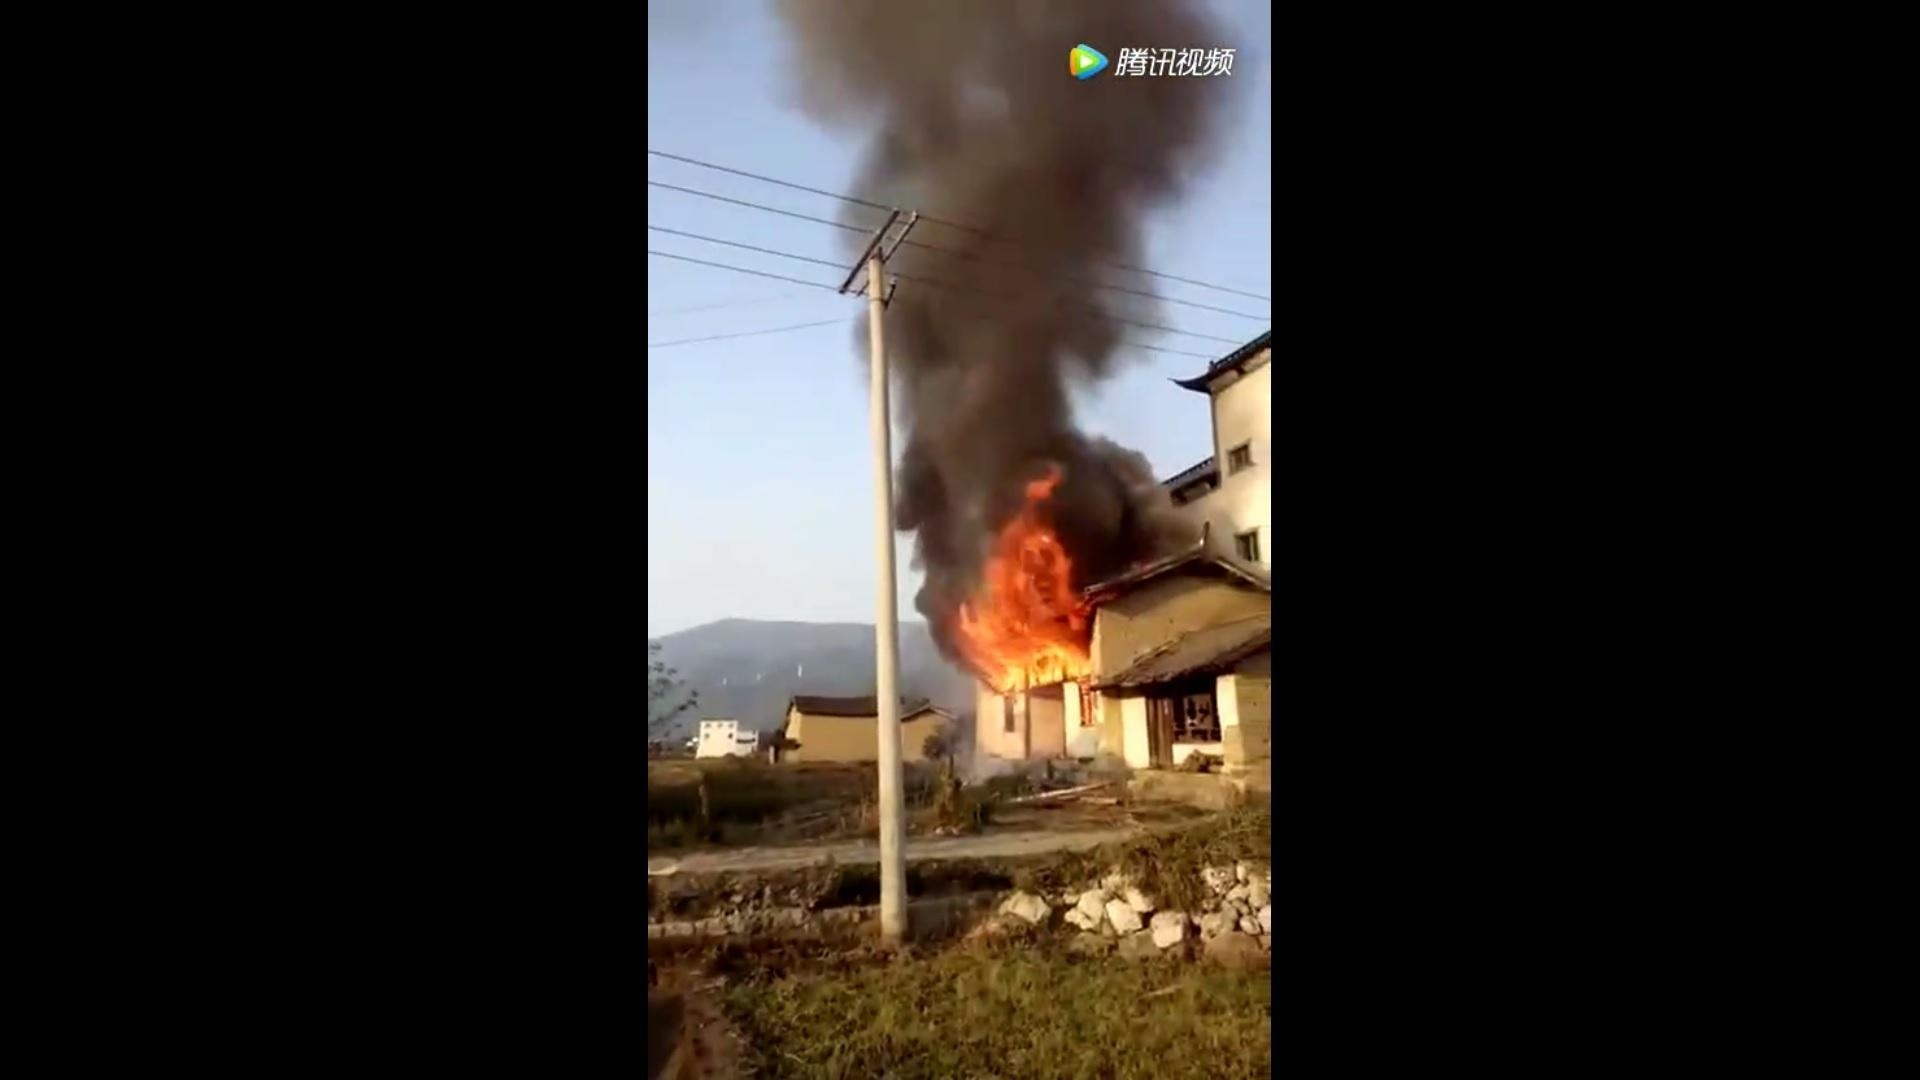fire: (959, 495, 1092, 692)
